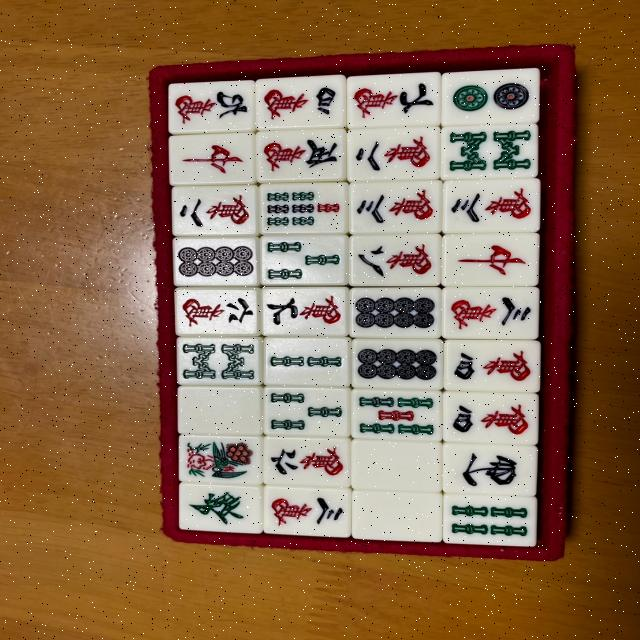bamboos_1: (178, 435, 264, 486)
bamboos_2: (262, 335, 349, 389)
bamboos_3: (259, 232, 349, 288), (264, 388, 353, 441)
bamboos_4: (443, 494, 537, 546)
bamboos_5: (351, 391, 444, 441)
bamboos_7: (257, 181, 348, 237)
bamboos_8: (441, 123, 539, 178), (176, 336, 262, 386)
characters_2: (346, 125, 442, 181), (170, 184, 258, 236)
characters_3: (442, 178, 542, 233), (348, 179, 442, 236), (443, 285, 540, 340), (264, 486, 351, 539)
characters_4: (444, 338, 542, 392), (442, 391, 539, 444), (254, 75, 347, 130)
characters_5: (255, 128, 346, 182)
characters_6: (263, 437, 352, 490), (172, 288, 258, 339)
characters_7: (346, 72, 439, 128), (259, 286, 348, 338)
characters_8: (346, 231, 442, 289)
characters_9: (166, 82, 253, 133)
circles_2: (442, 68, 541, 127)
circles_8: (350, 337, 444, 394), (348, 286, 444, 341), (168, 238, 257, 288)
green: (180, 485, 264, 535)
red: (443, 230, 540, 286), (171, 132, 253, 186)
west: (442, 441, 539, 497)
white: (176, 384, 267, 440), (352, 439, 444, 493), (352, 489, 444, 543)
